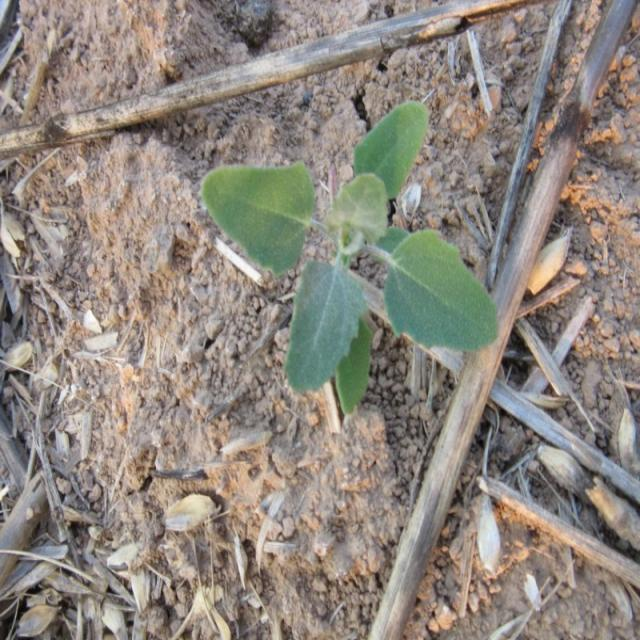ca: (200, 102, 497, 410)
